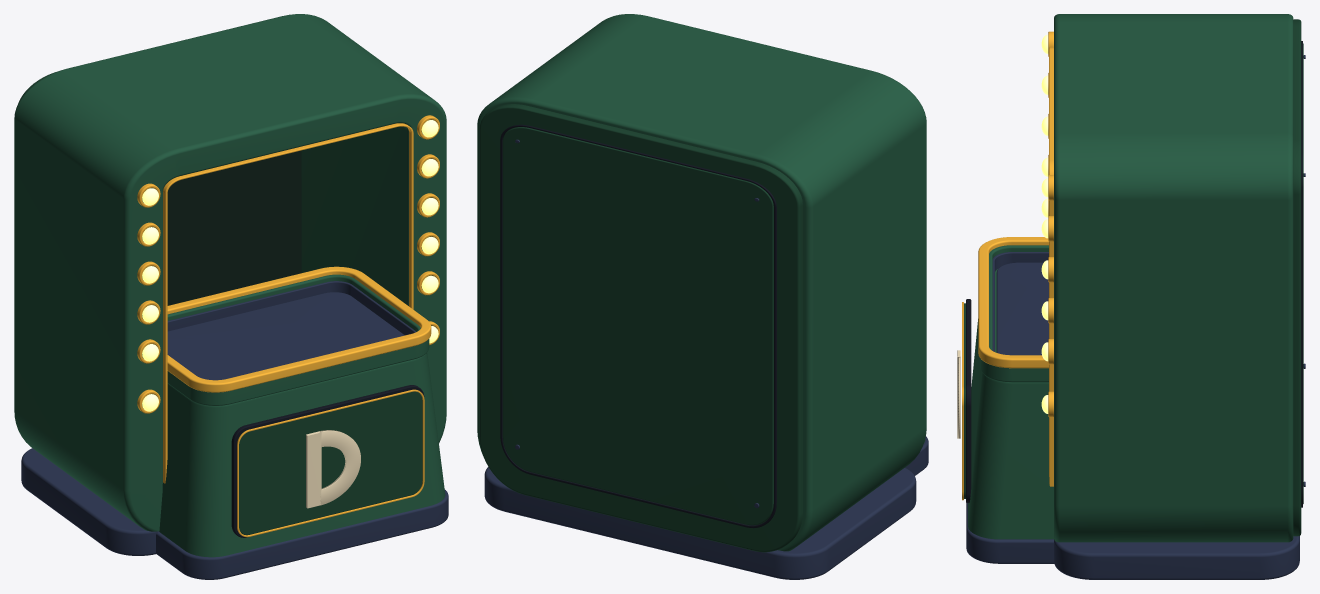
The model's file is BoothCabinet_D.glb.
3 renders of one model, left to right at view 1: azimuth 30°, elevation 25°; view 2: azimuth 150°, elevation 25°; view 3: azimuth 270°, elevation 25°, orthographic. The views are drawn at different scales.
Parts seen in each view (by area): view 1: RedRoundedCabinetShell, TrayTaperedRedBody, DarkRecessBack, TrayRedAnswerPlaque, TrayDepositFloor, TrayBlueGrayFoot, TrayGoldUpperLip, BlueGrayCabinetPlinth, TrayRaisedRedWall, GoldInnerApertureLining, TrayInnerBlueLiner, TrayFrontPlaqueShadow (+3 smaller); view 2: RedRearServicePanel, RedRoundedCabinetShell, RearOuterCover, BlueGrayCabinetPlinth, RearServicePanelSeam; view 3: RedRoundedCabinetShell, TrayTaperedRedBody, BlueGrayCabinetPlinth, RearOuterCover, TrayDepositFloor, TrayGoldUpperLip, TrayBlueGrayFoot, TrayRaisedRedWall, GoldInnerApertureLining, TrayFrontPlaqueShadow, RearServicePanelSeam, TrayInnerBlueLiner (+1 smaller).
Boxes of the visible parts, box(x1,y1,x2,y2) form: RedRoundedCabinetShell: box(14, 14, 446, 531); TrayTaperedRedBody: box(159, 352, 445, 557); DarkRecessBack: box(167, 150, 301, 305); TrayRedAnswerPlaque: box(237, 391, 422, 535); TrayDepositFloor: box(167, 292, 404, 380); TrayBlueGrayFoot: box(156, 489, 448, 579); TrayGoldUpperLip: box(167, 266, 431, 392); BlueGrayCabinetPlinth: box(21, 448, 159, 555); TrayRaisedRedWall: box(167, 274, 429, 405); GoldInnerApertureLining: box(163, 123, 413, 483); TrayInnerBlueLiner: box(167, 281, 415, 335); TrayFrontPlaqueShadow: box(231, 385, 424, 537); RedRearServicePanel: box(502, 127, 773, 525); RedRoundedCabinetShell: box(477, 14, 926, 551); RearOuterCover: box(479, 104, 802, 552); BlueGrayCabinetPlinth: box(484, 467, 916, 579); RearServicePanelSeam: box(500, 124, 776, 528); RedRoundedCabinetShell: box(1054, 14, 1293, 542); TrayTaperedRedBody: box(968, 269, 1053, 539); BlueGrayCabinetPlinth: box(1054, 536, 1299, 579); RearOuterCover: box(1293, 19, 1301, 536); TrayDepositFloor: box(996, 262, 1048, 355); TrayGoldUpperLip: box(978, 237, 1048, 368); TrayBlueGrayFoot: box(966, 503, 1054, 563); TrayRaisedRedWall: box(980, 245, 1048, 382); GoldInnerApertureLining: box(1049, 47, 1053, 486); TrayFrontPlaqueShadow: box(966, 299, 971, 502); RearServicePanelSeam: box(1301, 41, 1302, 507); TrayInnerBlueLiner: box(992, 252, 1048, 351).
Size of the model in its own units: 1.82 by 2.15 by 1.6.
Materials: 8 (8 with a texture image).
